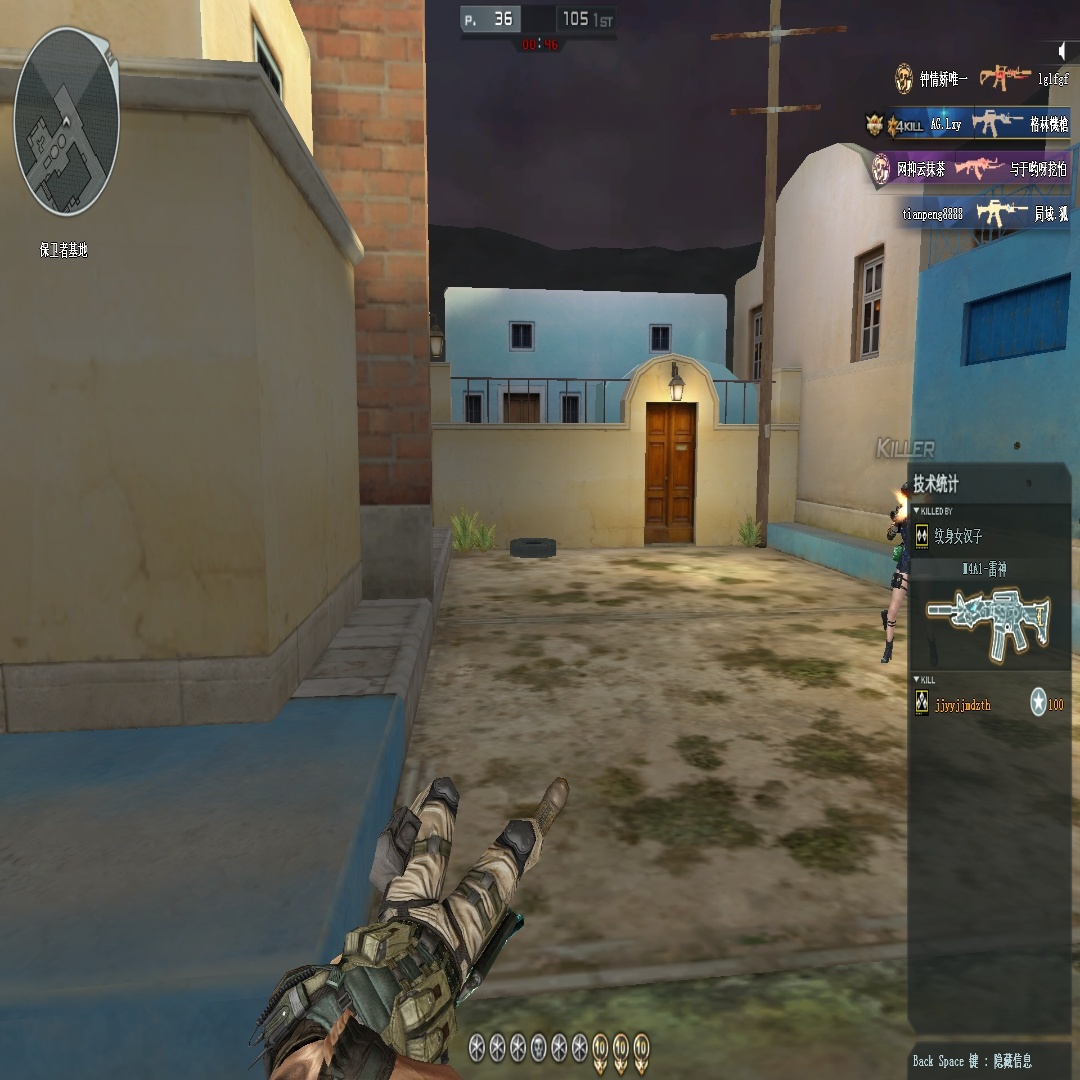p: (881, 484, 910, 667)
